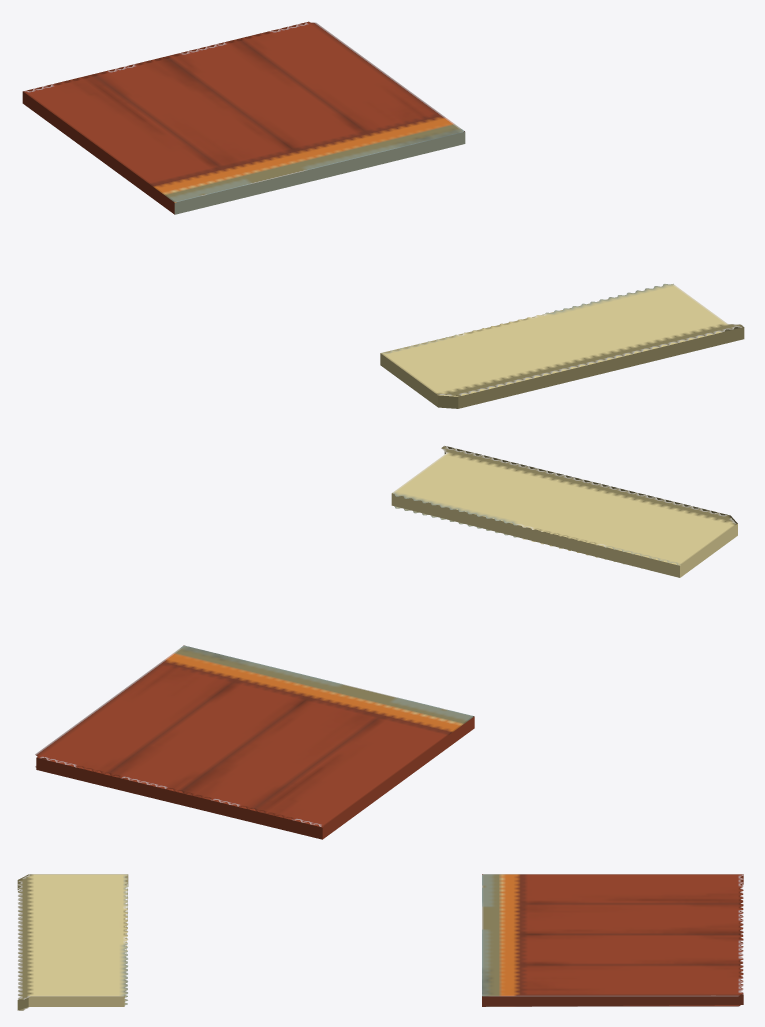
Rendered from pz_native_location_restaurant_spiffos_01_37_frame.obj.
3 renders of one model, top to bottom at view 1: azimuth 30°, elevation 25°; view 2: azimuth 150°, elevation 25°; view 3: azimuth 270°, elevation 25°, orthographic. The views are drawn at different scales.
Visible parts, largest first — view 1: pz_native_location_restaurant_spiffos_01_37_frame; view 2: pz_native_location_restaurant_spiffos_01_37_frame; view 3: pz_native_location_restaurant_spiffos_01_37_frame.
Boxes of the visible parts, <box> form: pz_native_location_restaurant_spiffos_01_37_frame: <box>22,21,744,408</box>; pz_native_location_restaurant_spiffos_01_37_frame: <box>35,446,737,839</box>; pz_native_location_restaurant_spiffos_01_37_frame: <box>17,874,743,1010</box>.
Bounding box in the file's own units: 1.06 × 0.04 × 2.55.
1 material, 1 textured.
